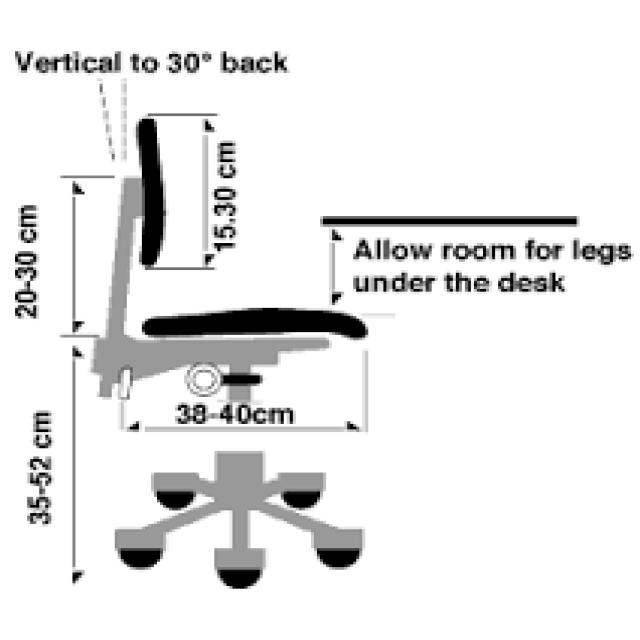chair: (41, 94, 408, 613)
